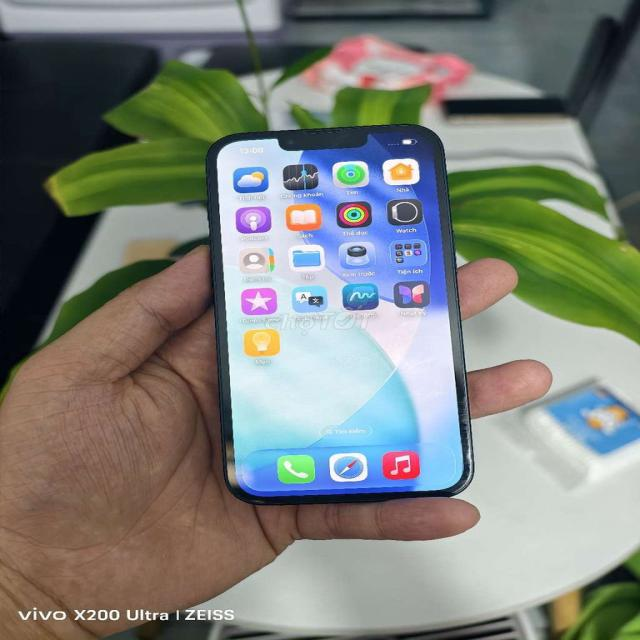gen_12_13: (207, 123, 488, 506)
